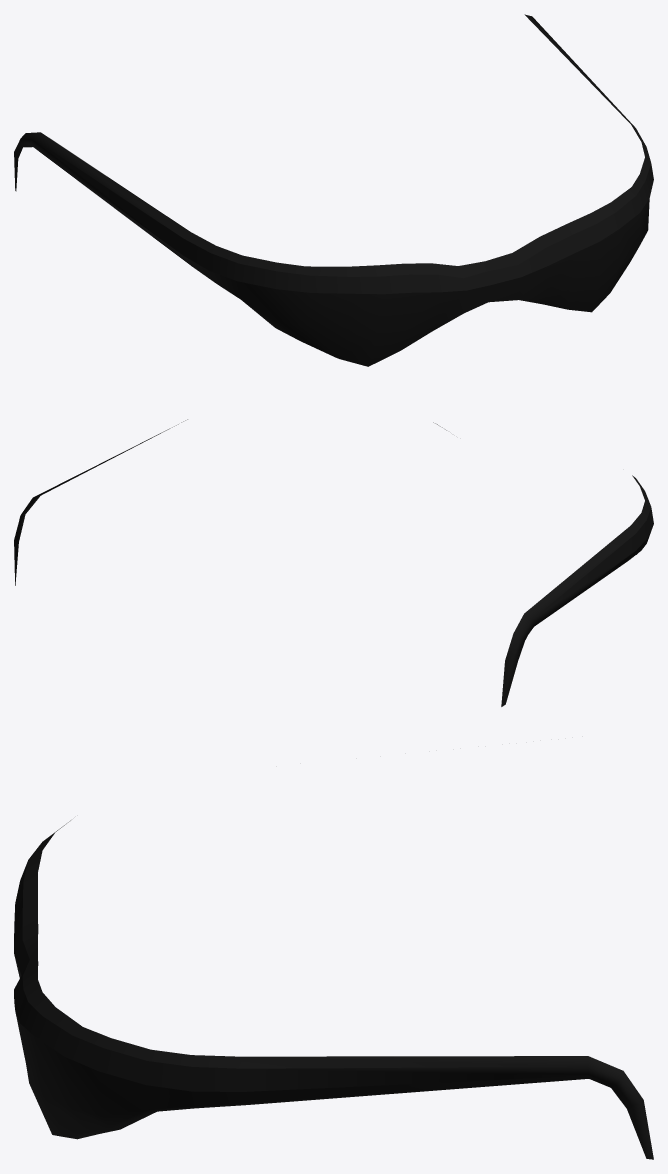
3 views of the same model, one above another, from view 1: azimuth 30°, elevation 25°; view 2: azimuth 150°, elevation 25°; view 3: azimuth 270°, elevation 25° (orthographic). The views are drawn at different scales.
Visible parts, largest first — view 1: Wolf3D_Glasses; view 2: Wolf3D_Glasses; view 3: Wolf3D_Glasses.
Part boxes in pixels (box(x1,y1,x2,y2)): Wolf3D_Glasses: box(14, 14, 653, 366); Wolf3D_Glasses: box(14, 419, 653, 706); Wolf3D_Glasses: box(14, 820, 653, 1159).
Size of the model in its own units: 0.1692 by 0.0394 by 0.137.
Materials: 1 (1 with a texture image).
